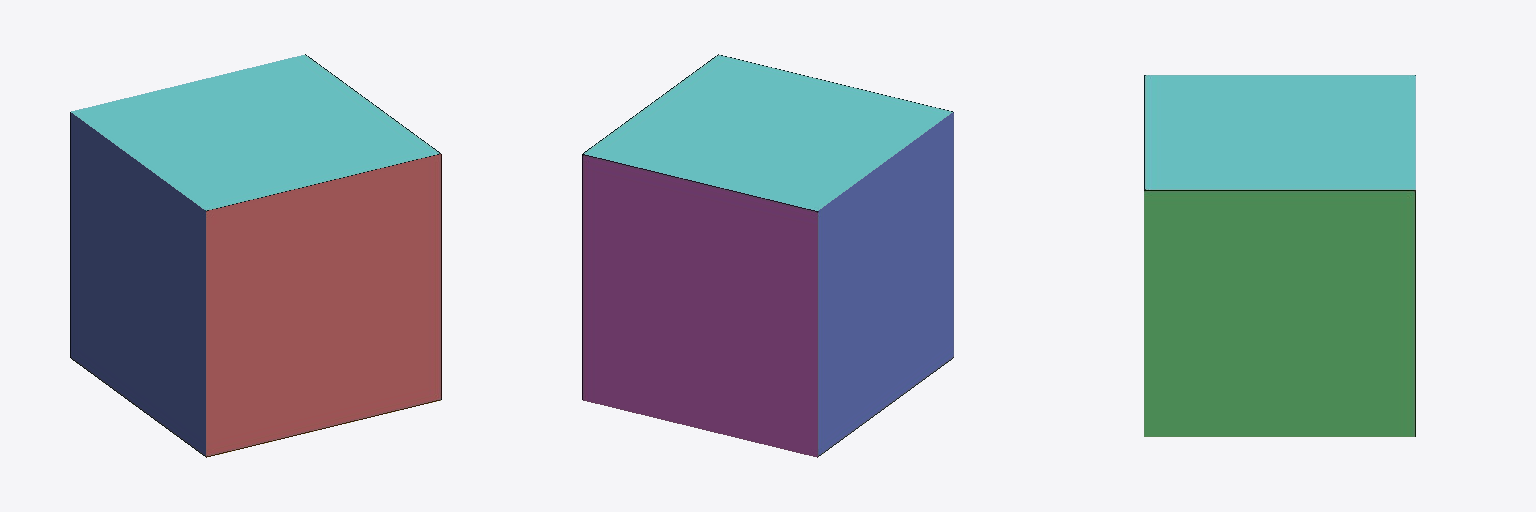
The picture shows the model from 3 angles: view 1: azimuth 30°, elevation 25°; view 2: azimuth 150°, elevation 25°; view 3: azimuth 270°, elevation 25°; orthographic projection.
Visible parts, largest first — view 1: Cube; view 2: Cube; view 3: Cube.
Part boxes in pixels (x1,y1,x2,y2): Cube: (70, 54, 441, 457); Cube: (582, 54, 953, 457); Cube: (1144, 75, 1415, 436).
Bounding box in the file's own units: 9 × 9 × 9.
Materials: 1 (1 with a texture image).